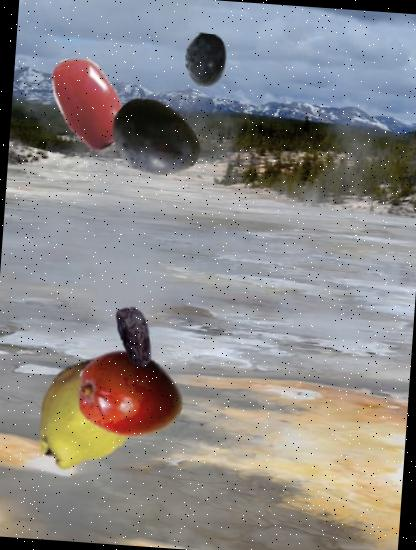Blueberry: (176, 32, 234, 90)
Dates: (102, 302, 168, 369)
Mango: (72, 338, 188, 454)
Plum: (106, 90, 206, 190)
Quince: (22, 348, 150, 476)
Tomato: (36, 50, 140, 153)
